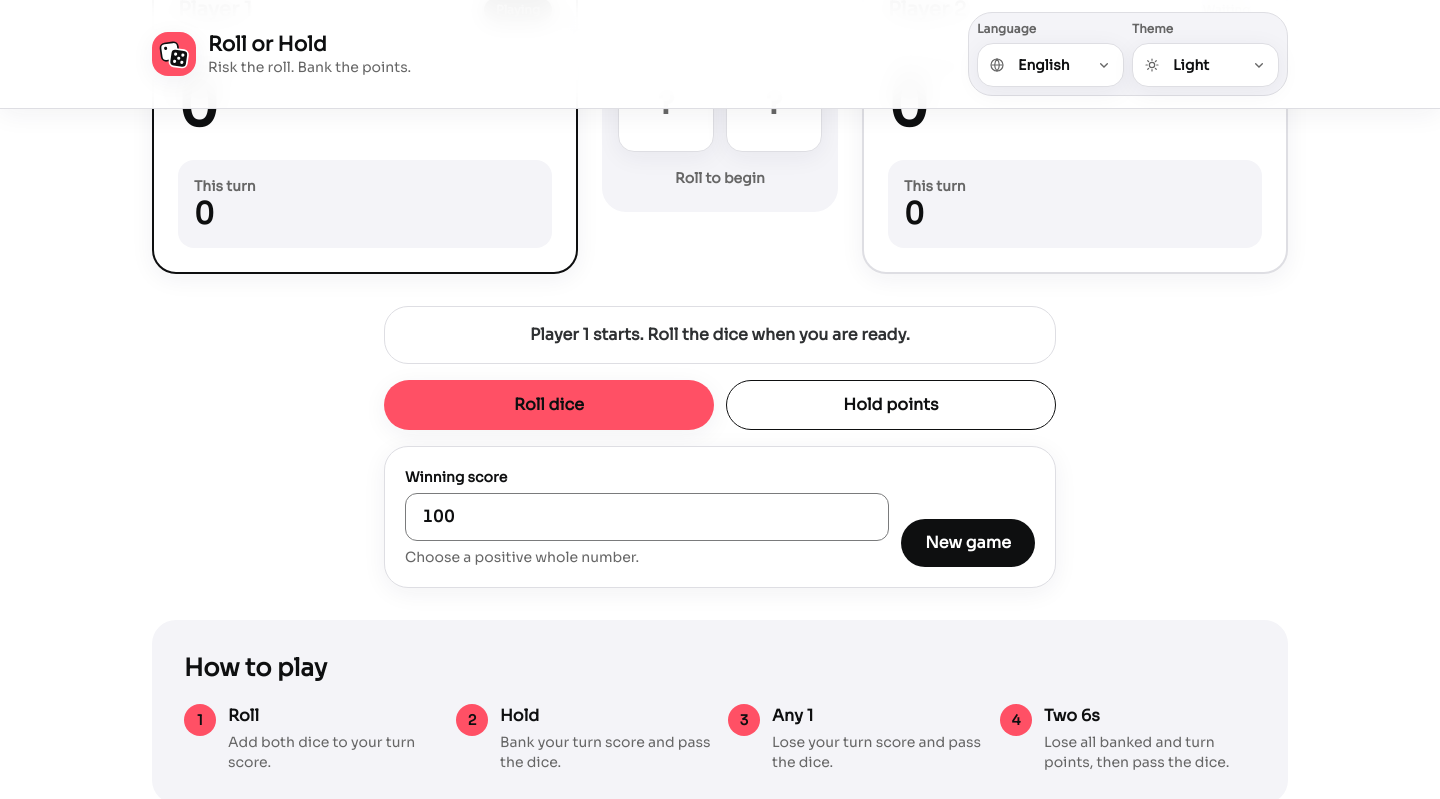
Scenario: GamePage › reports a double six and removes the active player banked score
(page scrolled)
Click the button "Roll dice": (549, 405) left=384, top=380, right=714, bottom=430
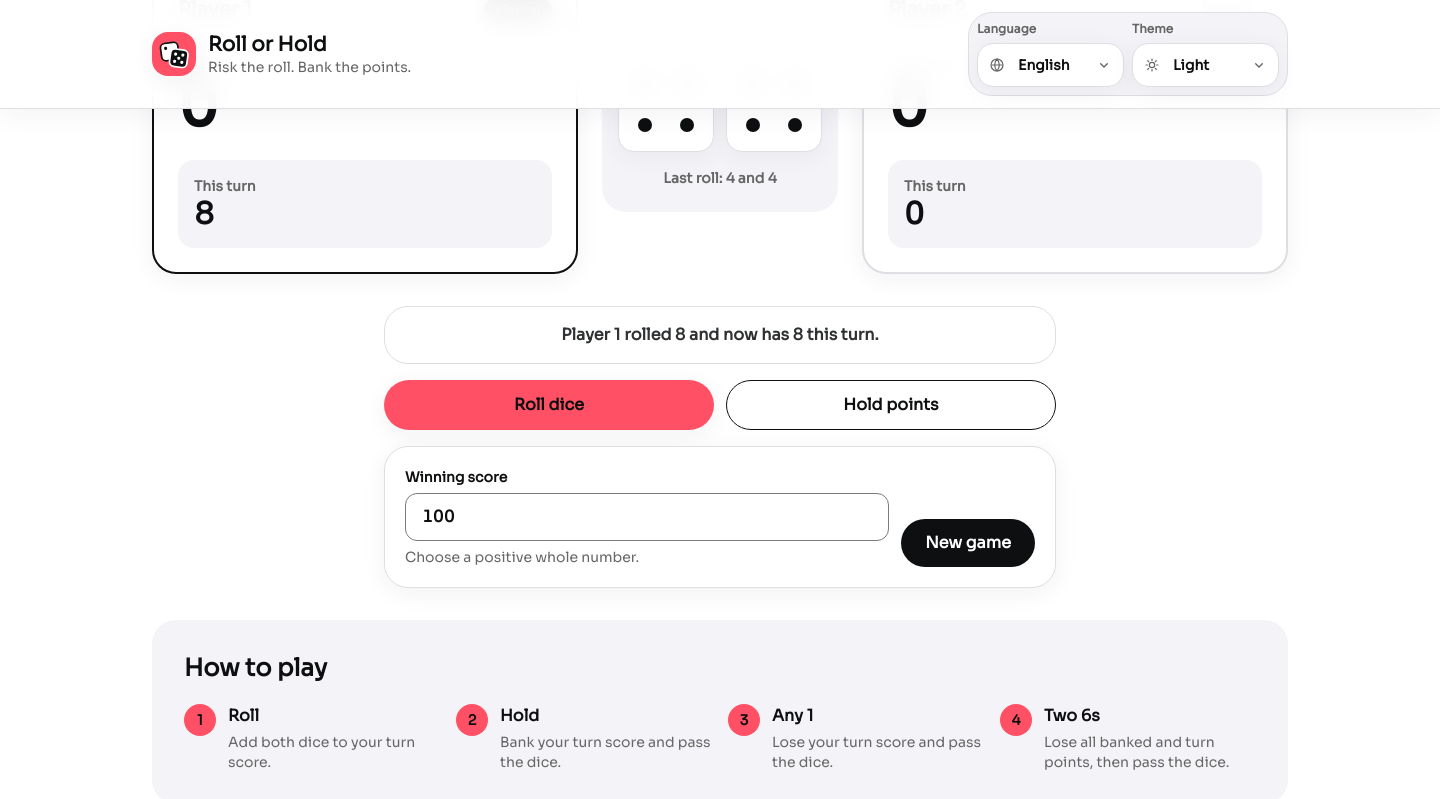
Click the button "Hold points": (891, 405) left=726, top=380, right=1056, bottom=430
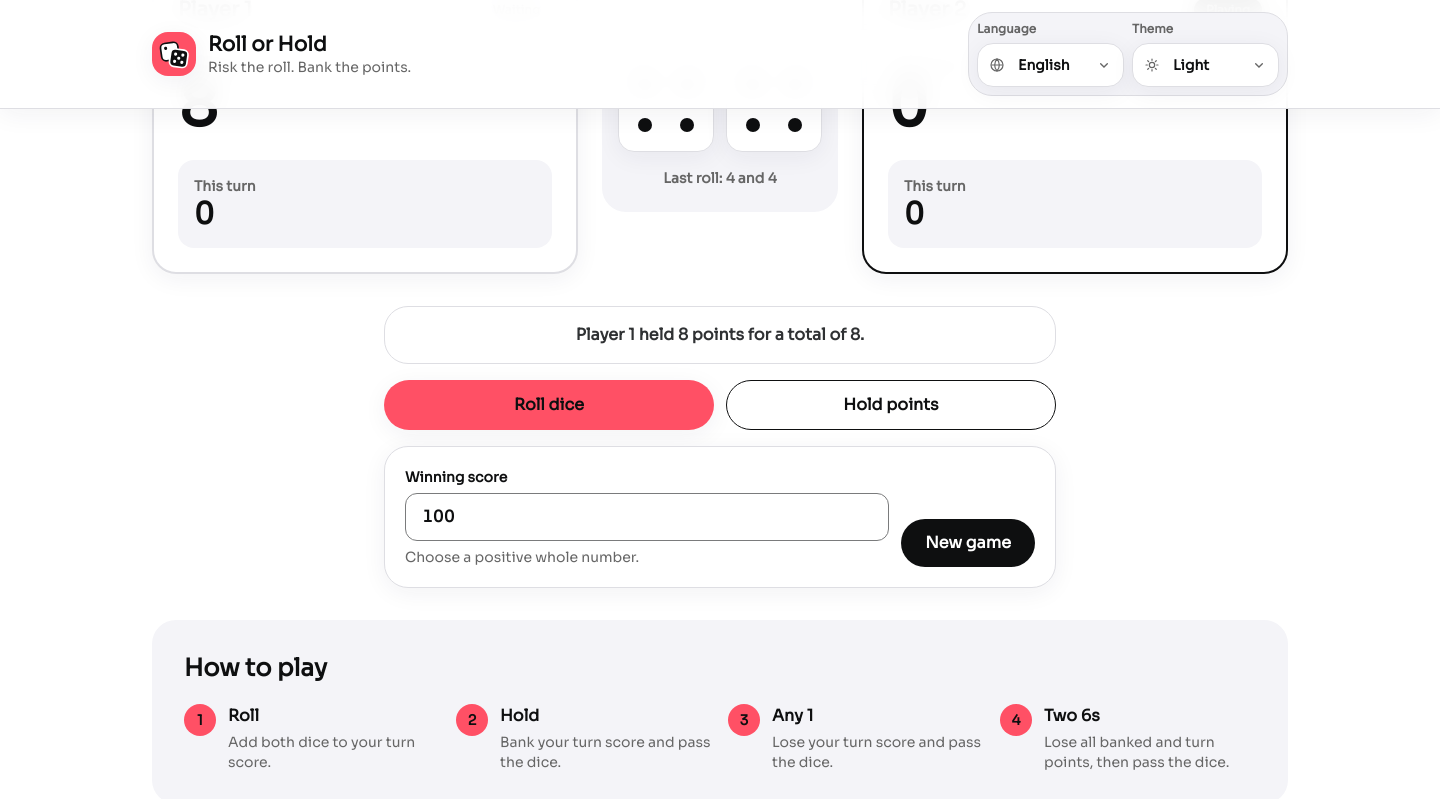
Click the button "Roll dice": (549, 405) left=384, top=380, right=714, bottom=430
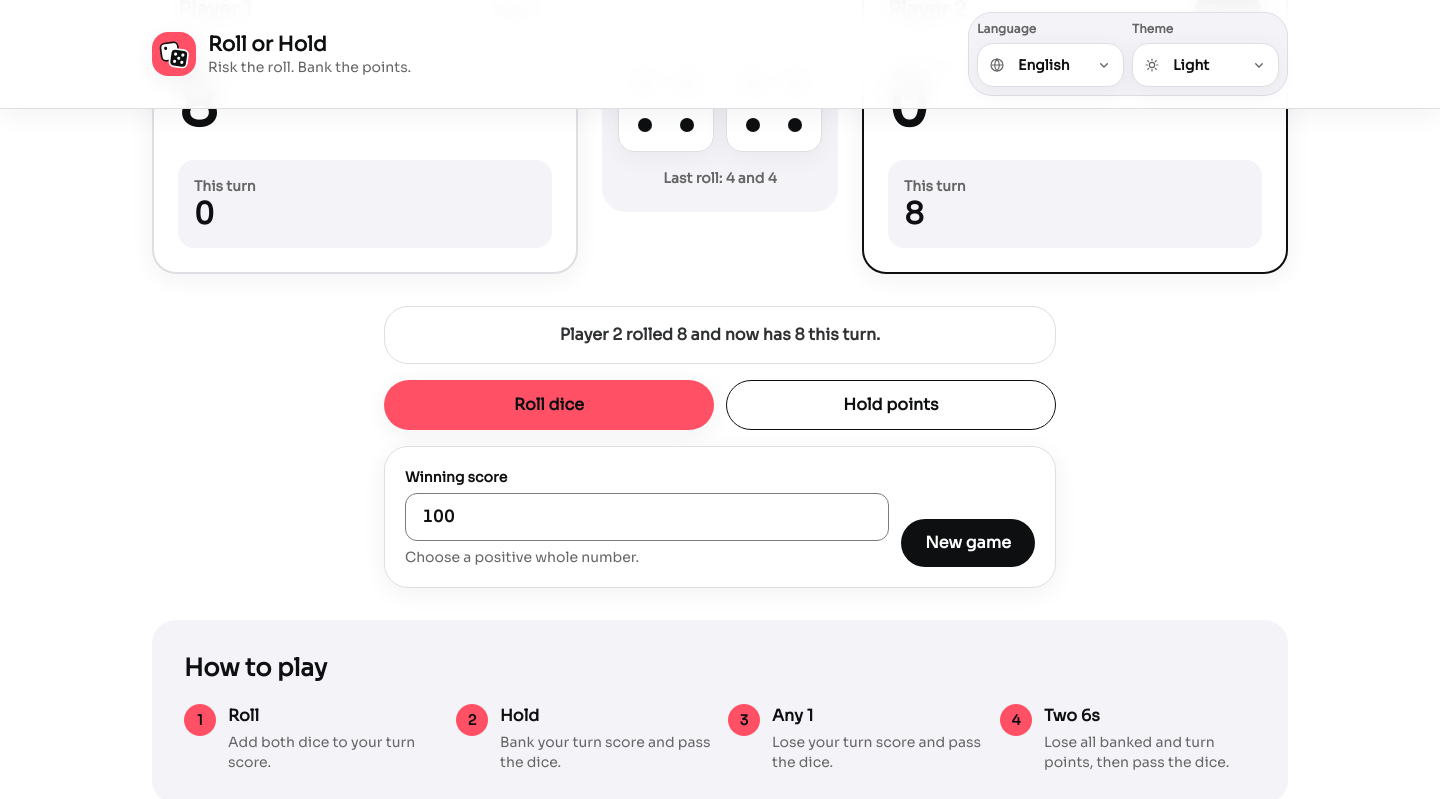
Click the button "Hold points": (891, 405) left=726, top=380, right=1056, bottom=430
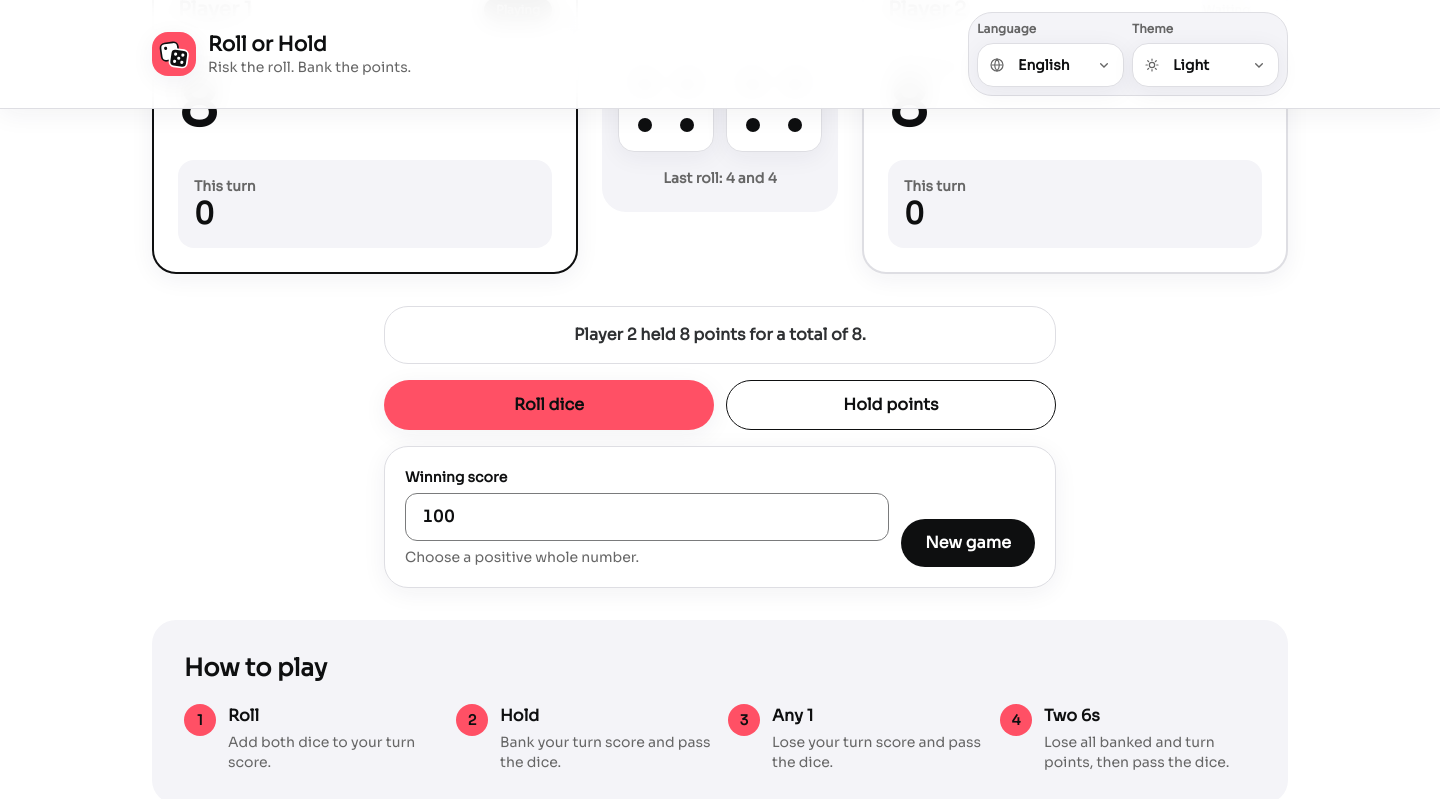
Click the button "Roll dice": (549, 405) left=384, top=380, right=714, bottom=430
(page scrolled)
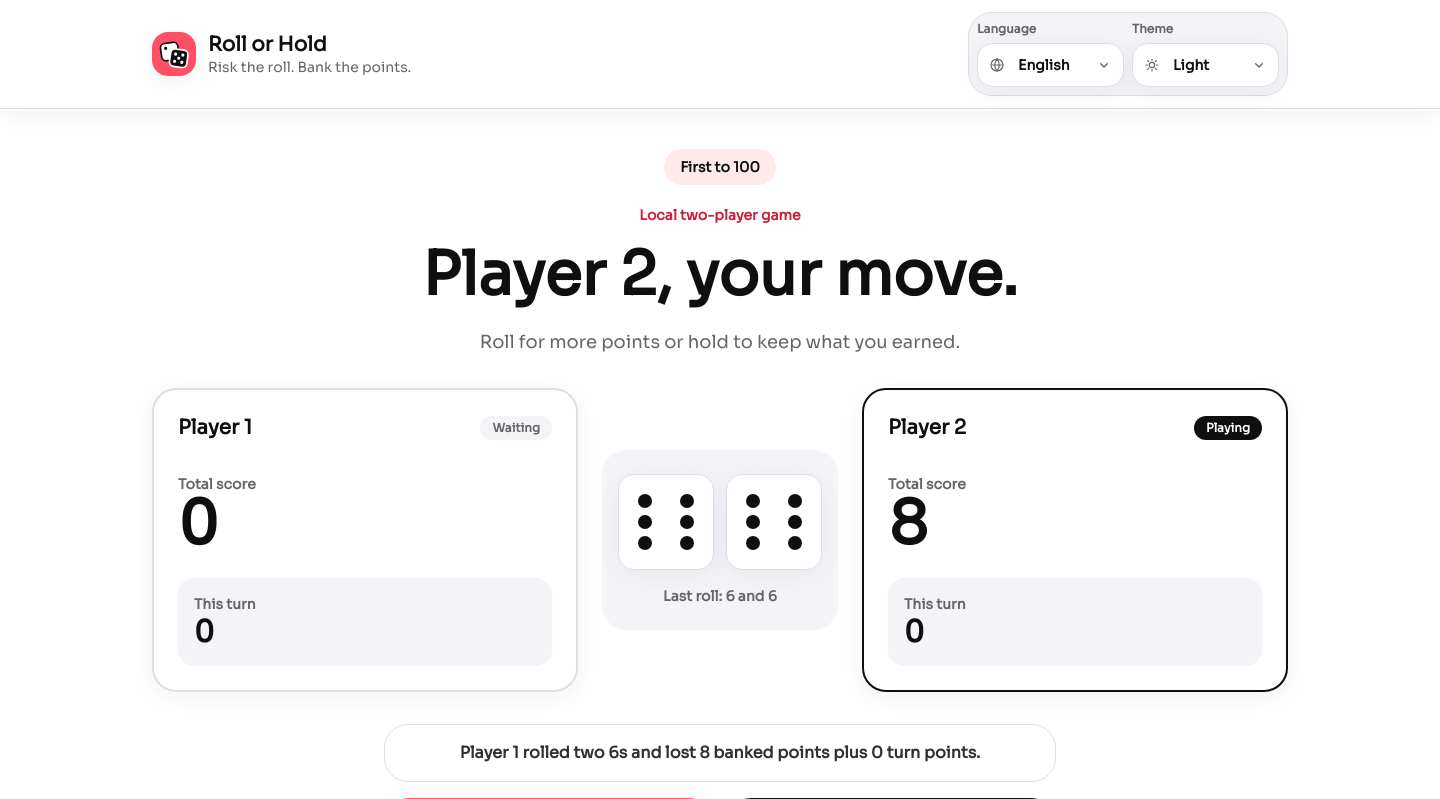
Now the message reads "Player 1 rolled two 6s and lost 8 banked points plus 0 turn points.", box left=460, top=742, right=980, bottom=763
Now the heading "Player 2, your move." is shown, box left=422, top=237, right=1018, bottom=312
